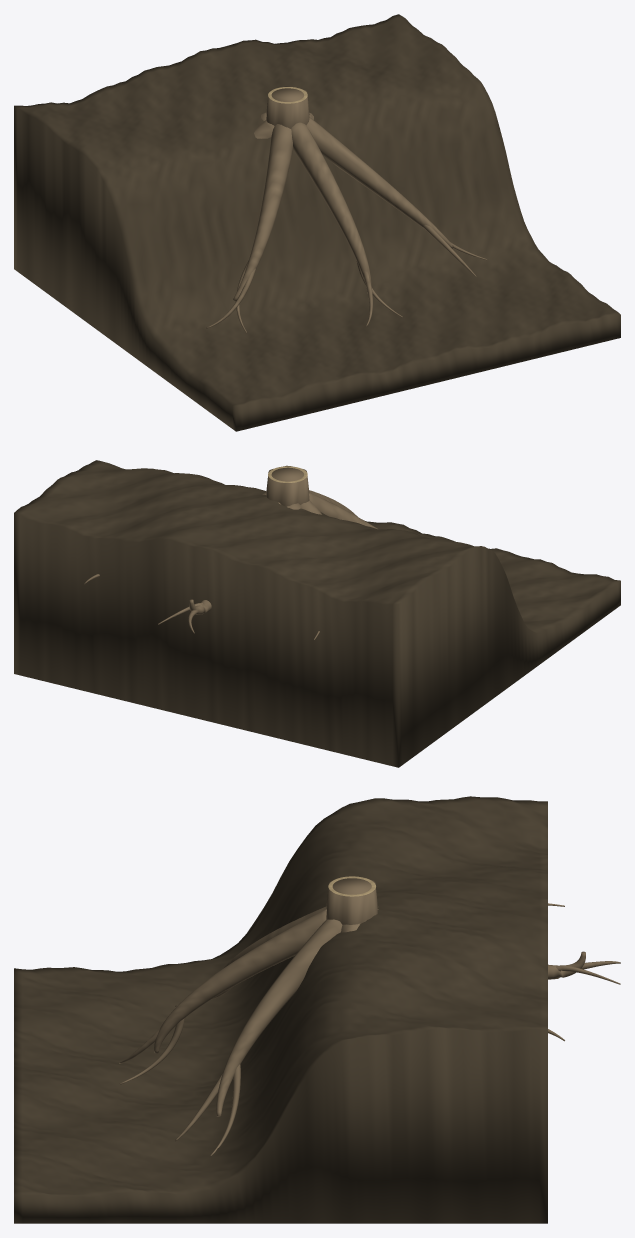
Rendered from root-bearing-bank.glb.
The picture shows the model from 3 angles, top to bottom: view 1: azimuth 30°, elevation 25°; view 2: azimuth 150°, elevation 25°; view 3: azimuth 270°, elevation 25°; orthographic projection. The views are drawn at different scales.
Visible parts, largest first — view 1: root-bearing-bank; view 2: root-bearing-bank; view 3: root-bearing-bank.
Boxes of the visible parts, left/top/right/bottom form: root-bearing-bank: left=14, top=14, right=620, bottom=431; root-bearing-bank: left=14, top=460, right=620, bottom=767; root-bearing-bank: left=14, top=796, right=620, bottom=1223.
Size of the model in its own units: 3 by 1.39 by 3.41.
